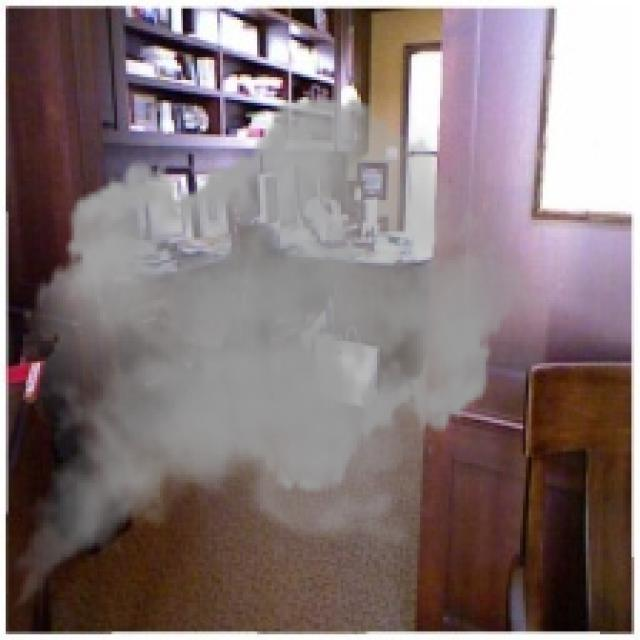Smoke: (2, 80, 552, 634)
